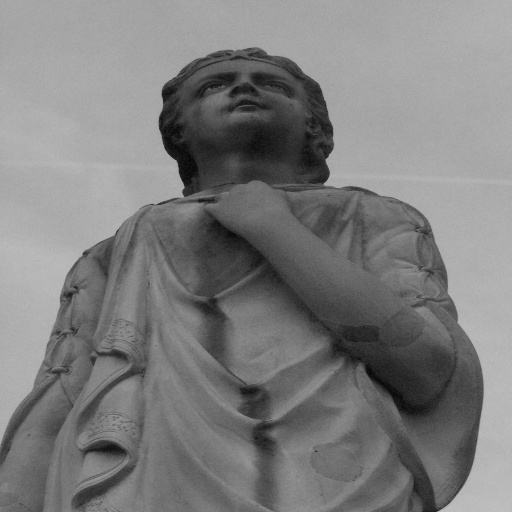hand: (203, 179, 289, 229)
